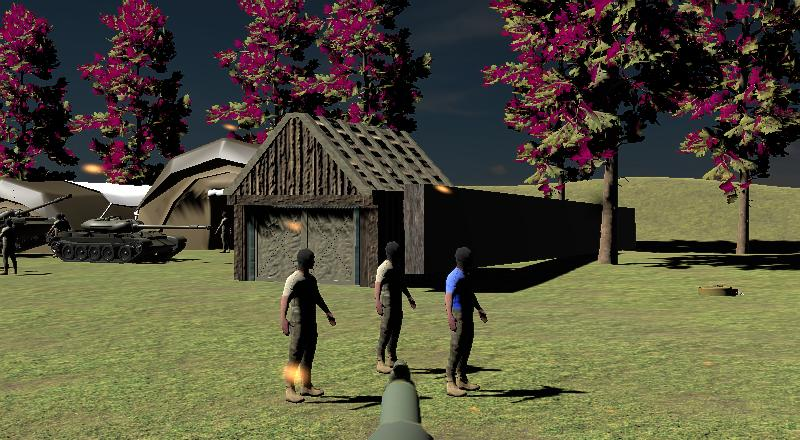Human: (276, 241, 340, 405), (442, 243, 491, 399), (371, 237, 419, 377)
Tank: (52, 212, 212, 268), (0, 189, 75, 255)
